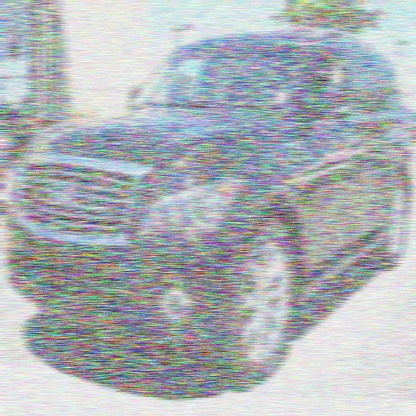Vehicle: (1, 34, 415, 380)
